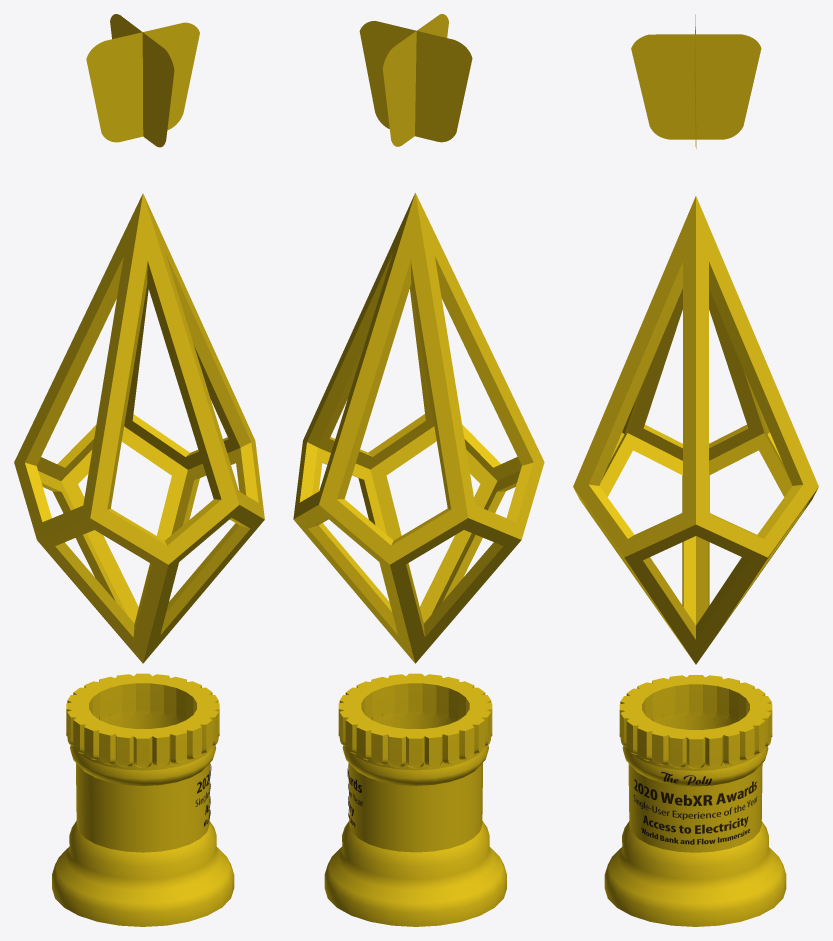
The model's file is 16ae2b7e-6711-4841-bd19-ebdcce8d95c6_SUEOTY.glb.
3 renders of one model, left to right at view 1: azimuth 30°, elevation 25°; view 2: azimuth 150°, elevation 25°; view 3: azimuth 270°, elevation 25°, orthographic.
Visible parts, largest first — view 1: Diamond, Base, Crown; view 2: Diamond, Base, Crown; view 3: Diamond, Base, Crown, Engravings.
Part boxes in pixels (bbox=[...]): Diamond: bbox=[14, 193, 264, 663]; Base: bbox=[52, 673, 234, 926]; Crown: bbox=[86, 14, 199, 147]; Diamond: bbox=[293, 193, 544, 663]; Base: bbox=[324, 673, 506, 926]; Crown: bbox=[359, 14, 472, 146]; Diamond: bbox=[573, 196, 818, 664]; Base: bbox=[604, 675, 786, 926]; Crown: bbox=[631, 14, 761, 148]; Engravings: bbox=[633, 771, 757, 844].
Size of the model in its own units: 0.6616 by 2.48 by 0.6471.
3 materials, 2 textured.
